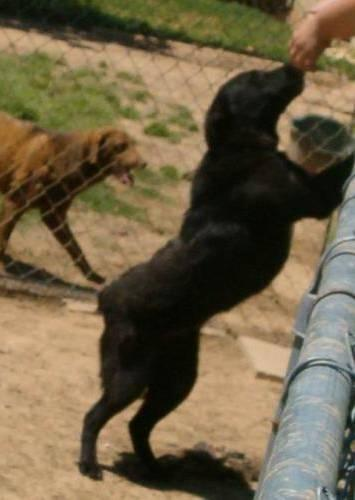dog: (79, 65, 350, 477), (0, 112, 145, 283)
